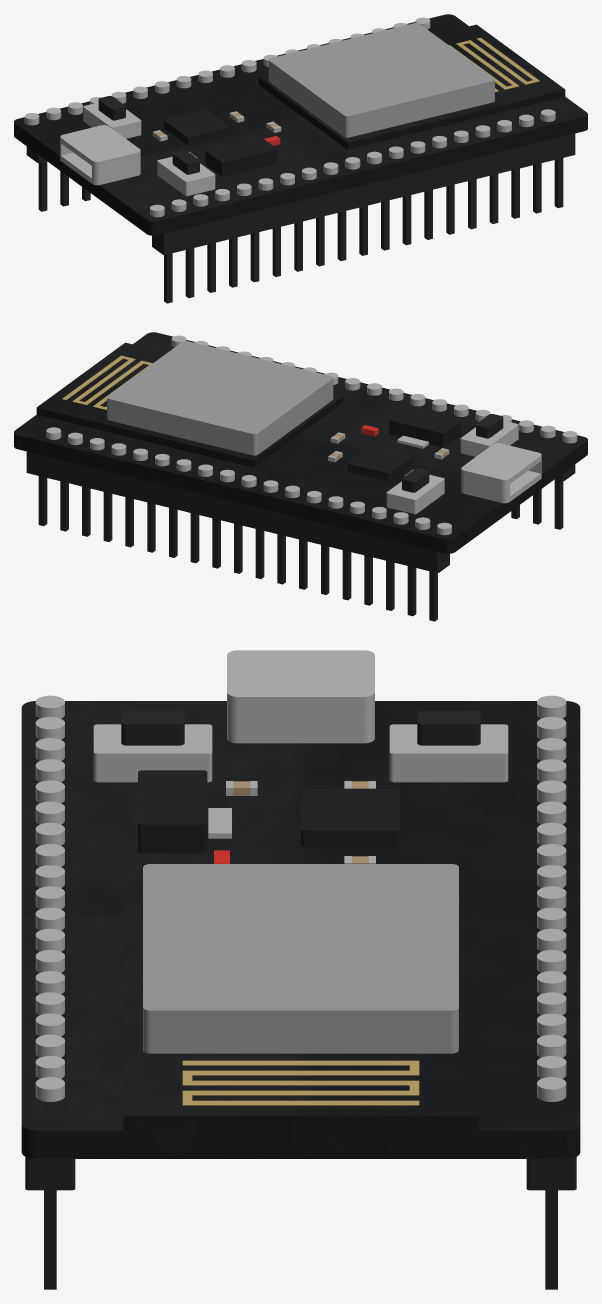
File: esp32-dev-board-38-pins.glb
The picture shows the model from 3 angles, top to bottom: view 1: azimuth 30°, elevation 25°; view 2: azimuth 150°, elevation 25°; view 3: azimuth 270°, elevation 25°; orthographic projection. The views are drawn at different scales.
Parts seen in each view (by area): view 1: ESP32 board, Pin header front, Radio module shield can, Radio module board, Micro USB connector, Regulator SOT-223, USB-UART bridge chip, Button base -1, PCB antenna trace, Button base 1, Pin header back, Button cap 1 (+1 smaller); view 2: ESP32 board, Pin header back, Radio module shield can, Radio module board, Micro USB connector, Regulator SOT-223, USB-UART bridge chip, Button base 1, PCB antenna trace, Button base -1, Pin header front, Button cap -1 (+1 smaller); view 3: ESP32 board, Radio module shield can, Radio module board, Micro USB connector, PCB antenna trace, Regulator SOT-223, Button base 1, USB-UART bridge chip, Button base -1, Pin header back, Pin header front, Button cap 1 (+1 smaller).
Boxes of the visible parts, <box> form: ESP32 board: <box>14,14,587,235</box>; Pin header front: <box>152,133,575,303</box>; Radio module shield can: <box>268,23,494,137</box>; Radio module board: <box>258,24,565,149</box>; Micro USB connector: <box>60,125,140,185</box>; Regulator SOT-223: <box>205,136,276,176</box>; USB-UART bridge chip: <box>163,109,229,145</box>; Button base -1: <box>157,156,215,196</box>; PCB antenna trace: <box>449,37,539,92</box>; Button base 1: <box>83,102,141,138</box>; Pin header back: <box>26,146,90,211</box>; Button cap 1: <box>98,96,125,120</box>; ESP32 board: <box>14,332,587,553</box>; Pin header back: <box>26,451,449,621</box>; Radio module shield can: <box>107,341,333,455</box>; Radio module board: <box>36,342,343,467</box>; Micro USB connector: <box>461,443,541,503</box>; Regulator SOT-223: <box>389,407,460,447</box>; USB-UART bridge chip: <box>347,445,413,481</box>; Button base 1: <box>386,474,444,514</box>; PCB antenna trace: <box>62,355,152,410</box>; Button base -1: <box>460,420,518,456</box>; Pin header front: <box>511,464,575,529</box>; Button cap -1: <box>476,414,503,438</box>; ESP32 board: <box>21,701,580,1158</box>; Radio module shield can: <box>143,864,458,1053</box>; Radio module board: <box>123,903,478,1130</box>; Micro USB connector: <box>227,650,374,743</box>; PCB antenna trace: <box>182,1060,419,1105</box>; Regulator SOT-223: <box>138,770,207,852</box>; Button base 1: <box>389,724,508,782</box>; USB-UART bridge chip: <box>301,789,399,846</box>; Button base -1: <box>93,724,212,782</box>; Pin header back: <box>526,1157,576,1289</box>; Pin header front: <box>25,1157,75,1289</box>; Button cap 1: <box>417,711,480,745</box>.
Bounding box in the file's own units: 0.052 × 0.0133 × 0.0283.
8 materials, 8 textured.
